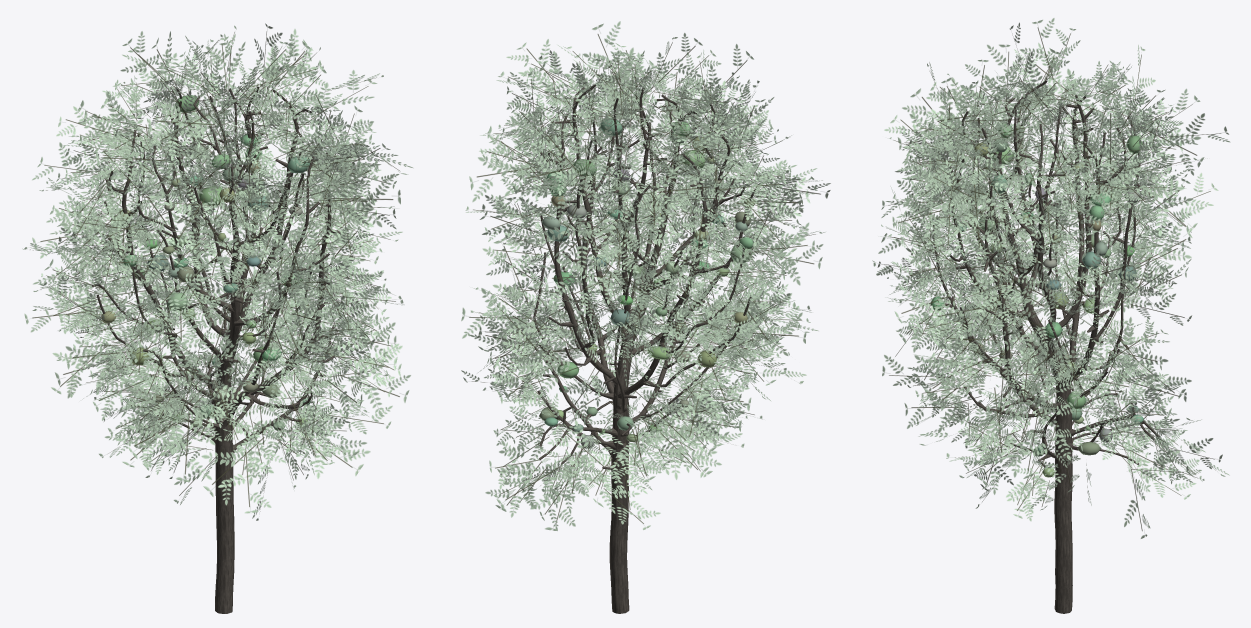
Rendered from tree_00_broadleaf.glb.
3 renders of one model, left to right at view 1: azimuth 30°, elevation 25°; view 2: azimuth 150°, elevation 25°; view 3: azimuth 270°, elevation 25°, orthographic. The views are drawn at different scales.
Parts seen in each view (by area): view 1: tree_00_broadleaf.leaves, tree_00_broadleaf.trunk_branches, tree_00_broadleaf.foliage_volume; view 2: tree_00_broadleaf.leaves, tree_00_broadleaf.trunk_branches, tree_00_broadleaf.foliage_volume; view 3: tree_00_broadleaf.leaves, tree_00_broadleaf.trunk_branches, tree_00_broadleaf.foliage_volume.
Part boxes in pixels (x1=…): tree_00_broadleaf.leaves: x1=22, y1=23, x2=413, y2=520; tree_00_broadleaf.trunk_branches: x1=92, y1=87, x2=340, y2=613; tree_00_broadleaf.foliage_volume: x1=101, y1=95, x2=310, y2=430; tree_00_broadleaf.leaves: x1=461, y1=21, x2=830, y2=530; tree_00_broadleaf.trunk_branches: x1=526, y1=84, x2=760, y2=613; tree_00_broadleaf.foliage_volume: x1=539, y1=118, x2=755, y2=448; tree_00_broadleaf.leaves: x1=872, y1=18, x2=1230, y2=538; tree_00_broadleaf.trunk_branches: x1=933, y1=80, x2=1159, y2=613; tree_00_broadleaf.foliage_volume: x1=930, y1=122, x2=1143, y2=477.
Size of the model in its own units: 7.87 by 11.82 by 6.91.
3 materials, 2 textured.
